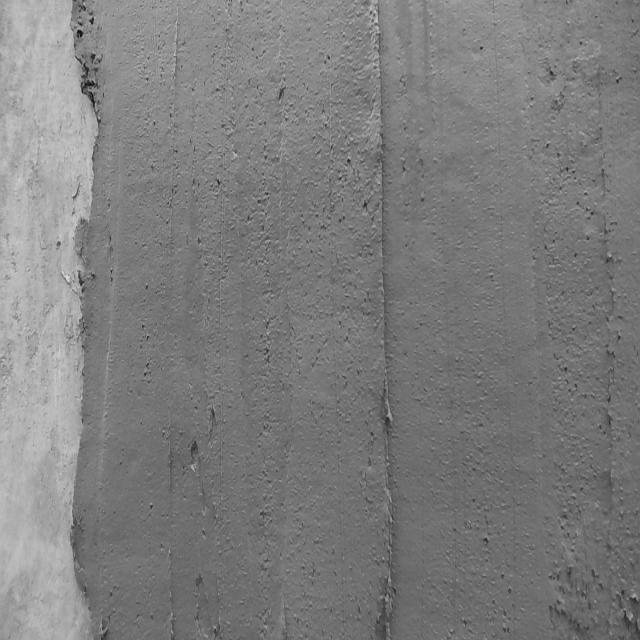trowels marks: (363, 4, 400, 640), (162, 2, 188, 640)
